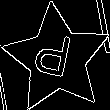P_S: (34, 31, 80, 87)
